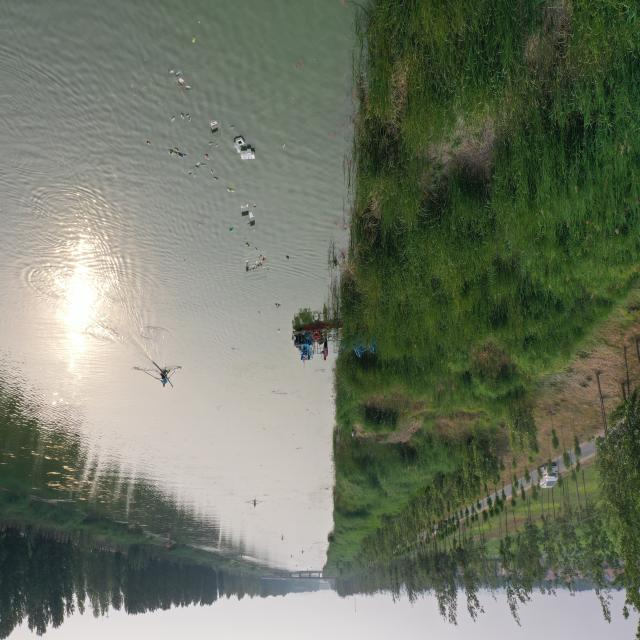plastic: (233, 131, 257, 164), (244, 250, 267, 280), (239, 204, 259, 230), (168, 146, 189, 158), (209, 120, 221, 137), (168, 69, 183, 77), (203, 151, 213, 163), (206, 140, 219, 149), (271, 300, 281, 310), (226, 187, 237, 196), (184, 112, 193, 122), (178, 76, 186, 86), (193, 161, 201, 170), (213, 174, 220, 183), (226, 226, 234, 233), (184, 85, 193, 91), (244, 241, 250, 250), (188, 169, 193, 176), (171, 116, 175, 122)
